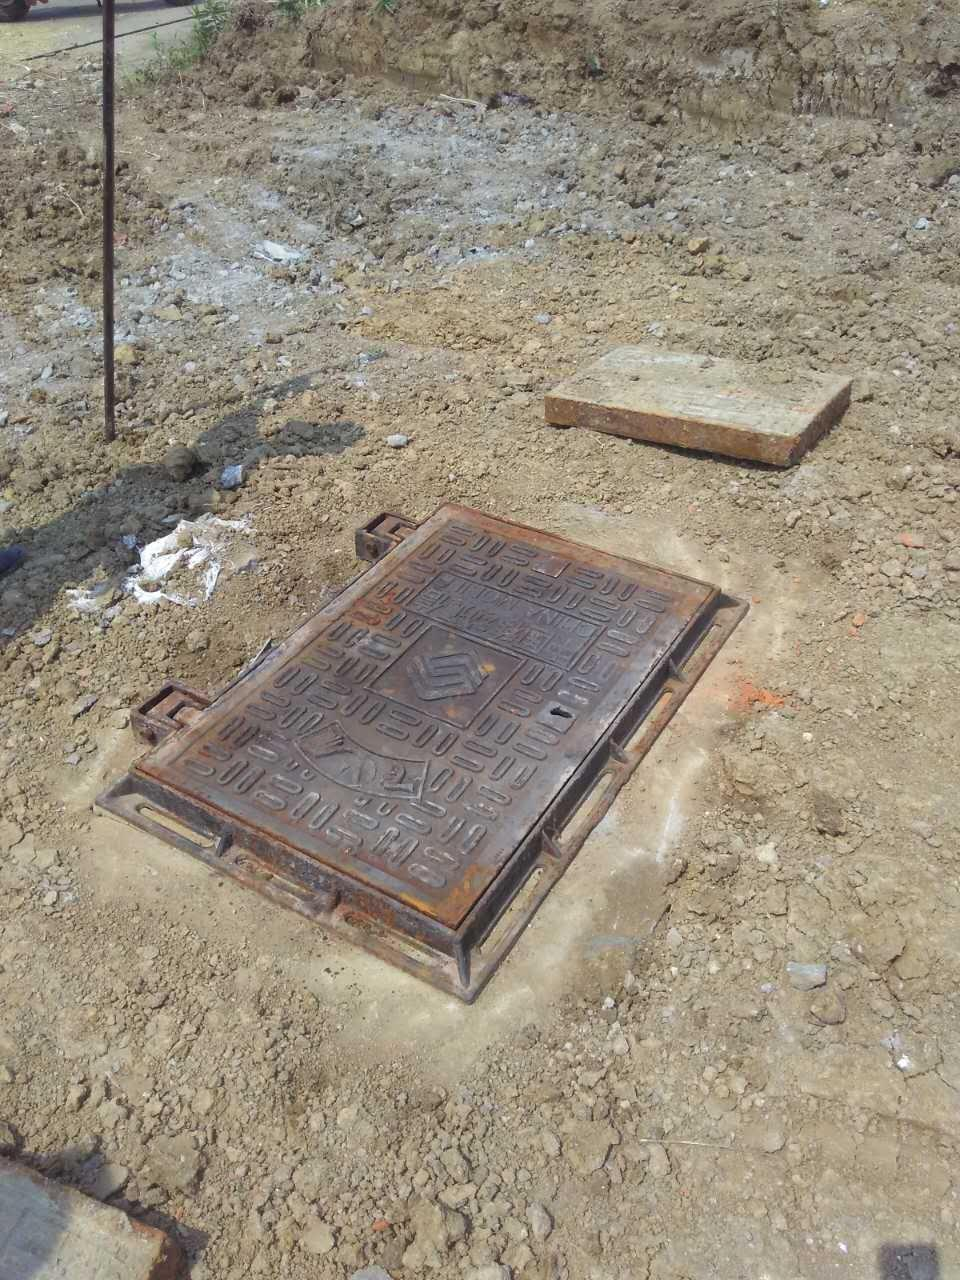wellcover: (66, 493, 776, 1029), (516, 318, 851, 492)
